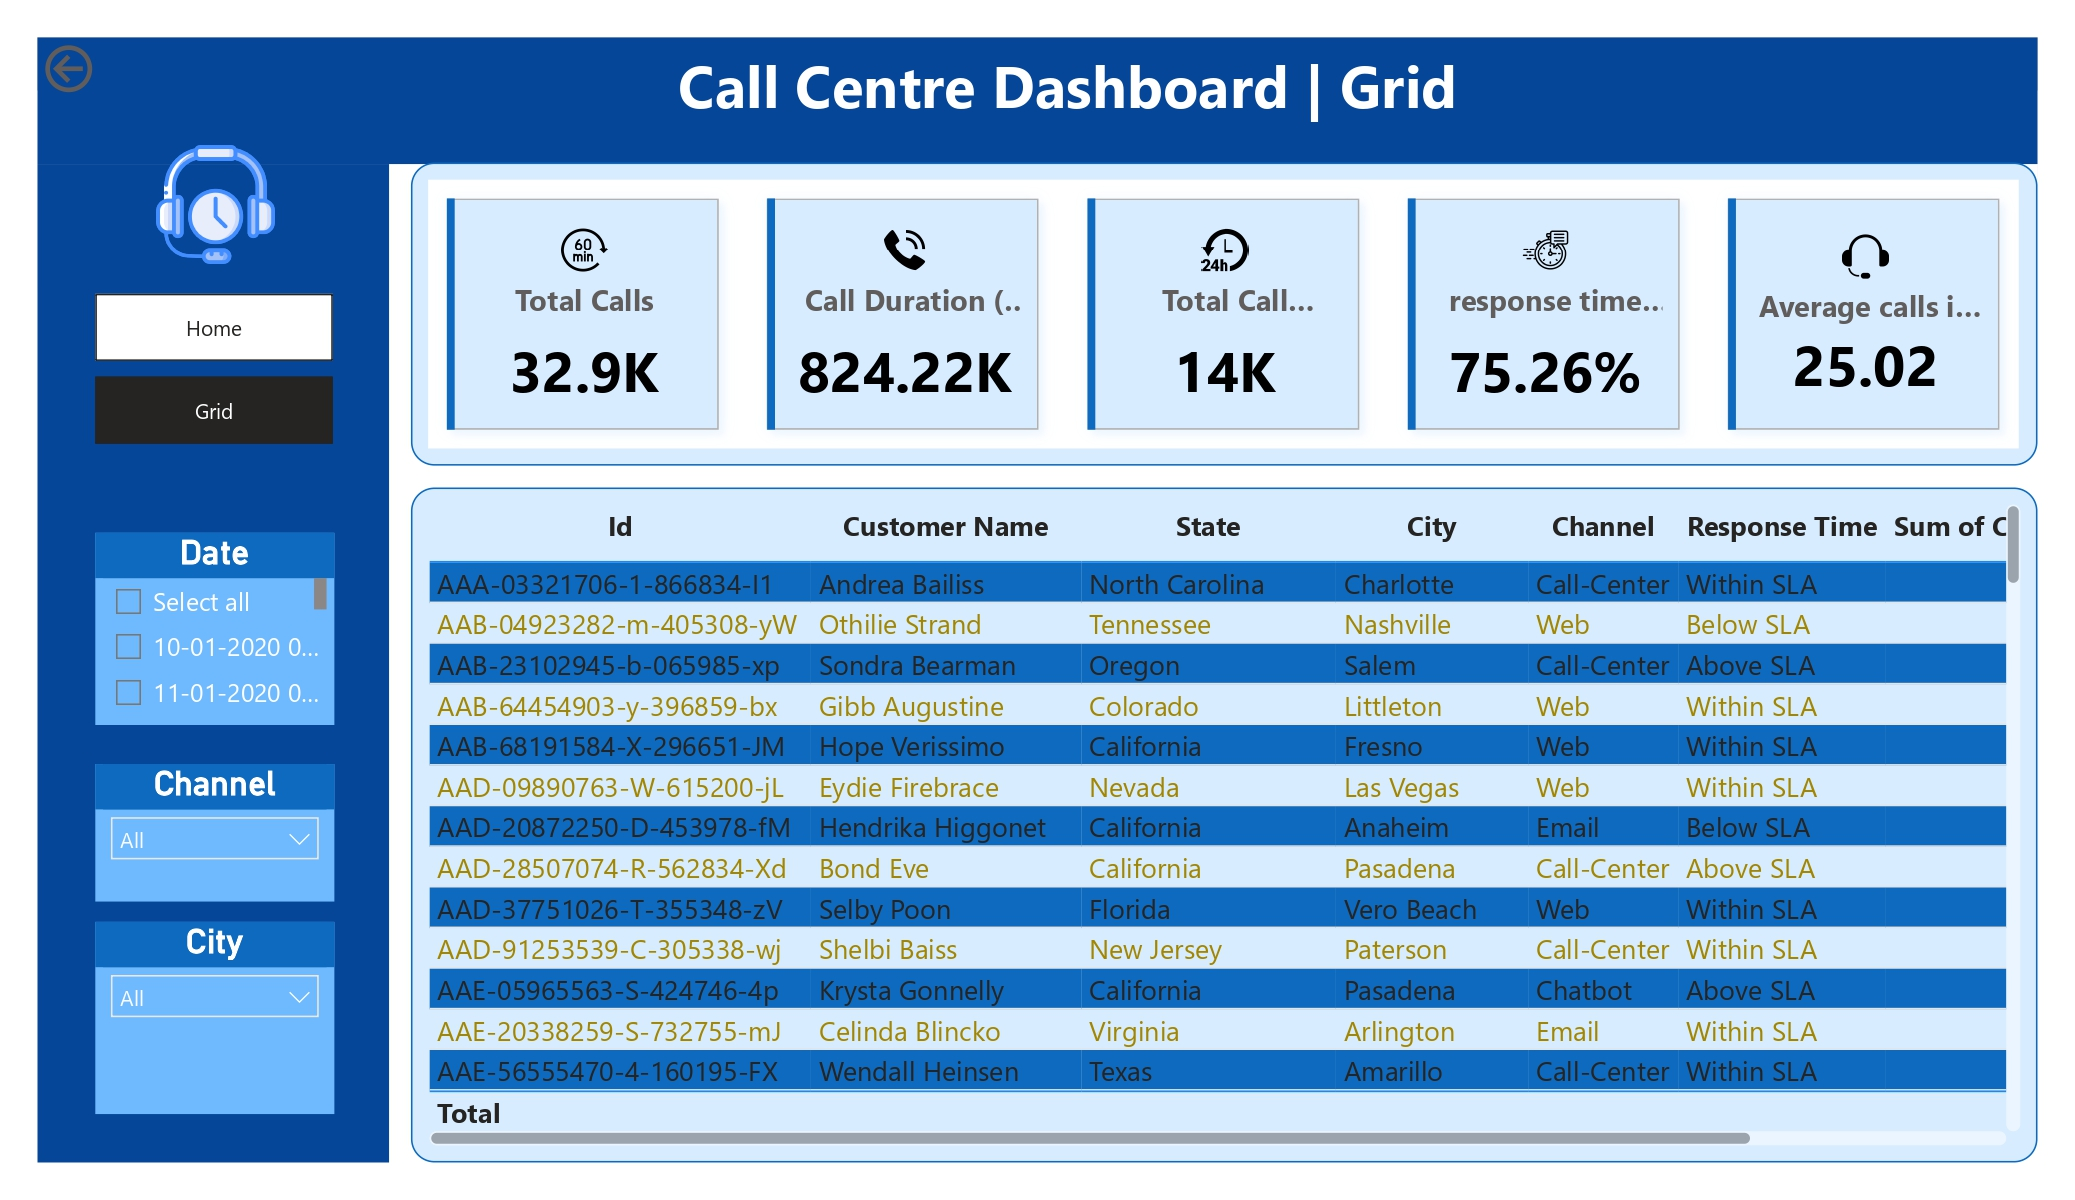

This screenshot's page, from the dashboard's own definition file:
{"tool":"powerbi","page":{"name":"Grid","canvas":[1280,720],"ordinal":1},"visuals":[{"type":"shape","box":[0,0,1280,80.6],"z":0},{"type":"shape","box":[0,80.6,225.1,640],"z":1000},{"type":"cardVisual","fields":{"Data":["Call Center_Call Center.total calls","Call Center_Call Center.Call Duration In Minutes","Call Center_Call Center.Total call duration (hrs)","Call Center_Call Center.response time percentage","Call Center_Call Center.Average calls in minutes"]},"box":[238.5,80.5,1042,193.2],"z":2000},{"type":"textbox","box":[299,0,720.6,63.8],"z":3000},{"type":"slicer","title":"Date","fields":{"Values":["date table.Date"]},"box":[37,317.5,152.9,122.6],"z":4000},{"type":"slicer","title":"Channel","fields":{"Values":["Call Center_Call Center.Channel"]},"box":[37,465.3,152.9,87.3],"z":5000},{"type":"slicer","title":"City","fields":{"Values":["Call Center_Call Center.City"]},"box":[37,566.1,152.9,122.6],"z":6000},{"type":"image","box":[37,63.8,152.9,85.7],"z":7000},{"type":"tableEx","fields":{"Values":["Call Center_Call Center.Id","Call Center_Call Center.Customer Name","Call Center_Call Center.State","Call Center_Call Center.City","Call Center_Call Center.Channel","Call Center_Call Center.Response Time","Call Center_Call Center.Call Duration In Minutes"]},"box":[238.5,288.3,1042,431.7],"z":8000},{"type":"actionButton","box":[0,0,100,40],"z":9000},{"type":"pageNavigator","box":[36.6,163.9,152.2,96.6],"z":10000}]}

Visuals, with their boxes on the page's 1280x720 design canvas (x1, y1, x2, y2). These are canvas units, not pixel positions in the 2075x1200 screenshot, which may show the page scaled, cropped or inside an application window:
shape: region(0, 0, 1280, 81)
shape: region(0, 81, 225, 721)
cardVisual - Call Center_Call Center.total calls x Call Center_Call Center.Call Duration In Minutes: region(238, 80, 1280, 274)
textbox: region(299, 0, 1020, 64)
"Date" slicer: region(37, 318, 190, 440)
"Channel" slicer: region(37, 465, 190, 553)
"City" slicer: region(37, 566, 190, 689)
image: region(37, 64, 190, 150)
tableEx - Call Center_Call Center.Id x Call Center_Call Center.Customer Name: region(238, 288, 1280, 720)
actionButton: region(0, 0, 100, 40)
pageNavigator: region(37, 164, 189, 260)
